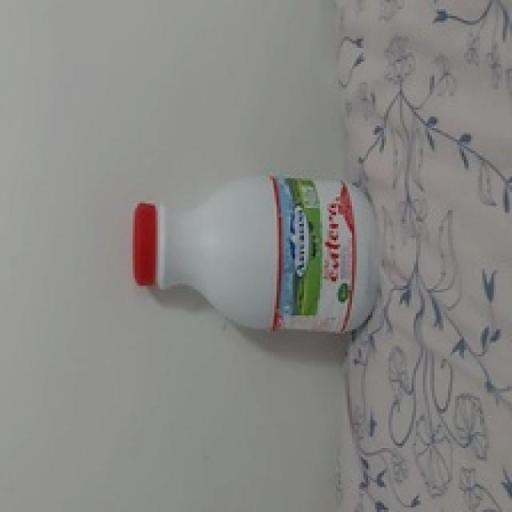plastic: (133, 174, 382, 338)
